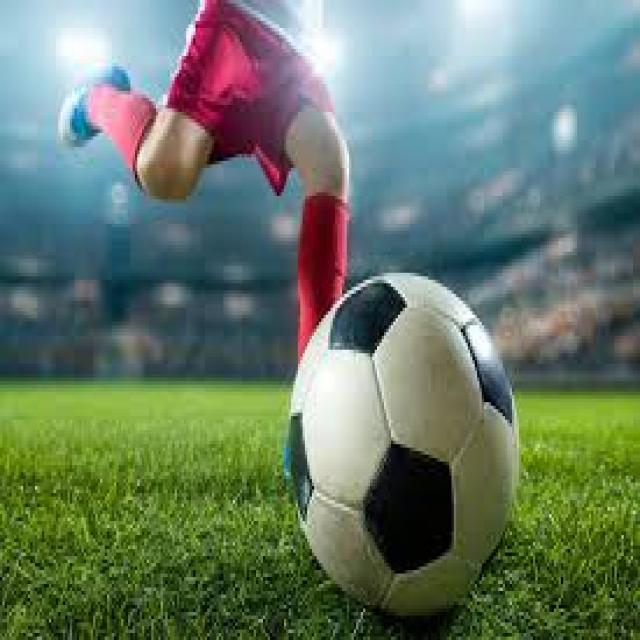ball: (288, 269, 520, 622)
